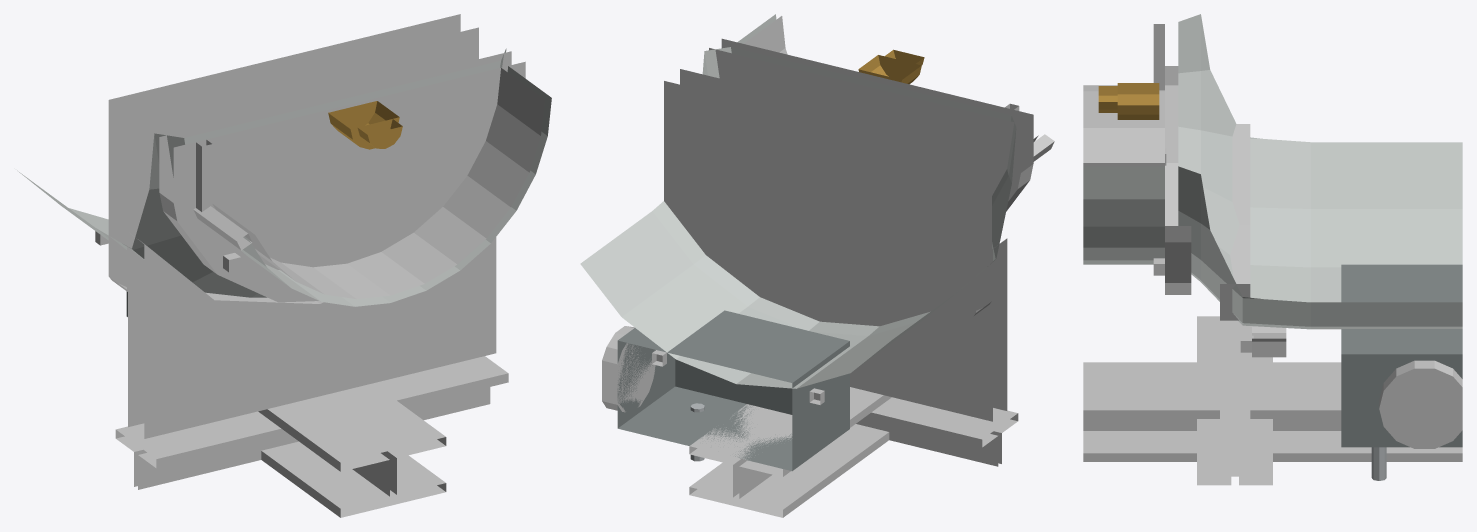
The model's file is cell_52.obj.
The picture shows the model from 3 angles, left to right: view 1: azimuth 30°, elevation 25°; view 2: azimuth 150°, elevation 25°; view 3: azimuth 270°, elevation 25°; orthographic projection. The views are drawn at different scales.
Bounding box in the file's own units: 1 × 1 × 1.
